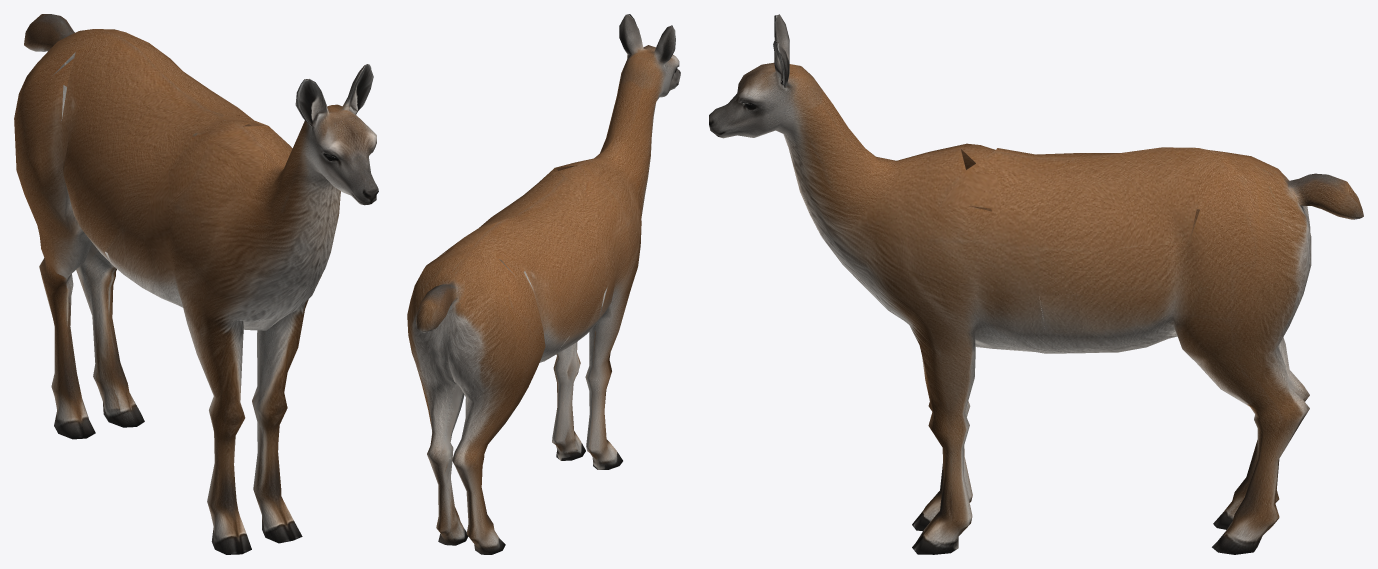
File: chile.fbx
The picture shows the model from 3 angles, left to right: view 1: azimuth 30°, elevation 25°; view 2: azimuth 150°, elevation 25°; view 3: azimuth 270°, elevation 25°; orthographic projection. The views are drawn at different scales.
Visible parts, largest first — view 1: Mesh_0; view 2: Mesh_0; view 3: Mesh_0.
Part boxes in pixels (x1,y1,x2,y2): Mesh_0: [14, 14, 378, 554]; Mesh_0: [407, 14, 680, 554]; Mesh_0: [709, 14, 1363, 554].
Bounding box in the file's own units: 28.12 × 85.74 × 100.
Materials: 1 (1 with a texture image).
